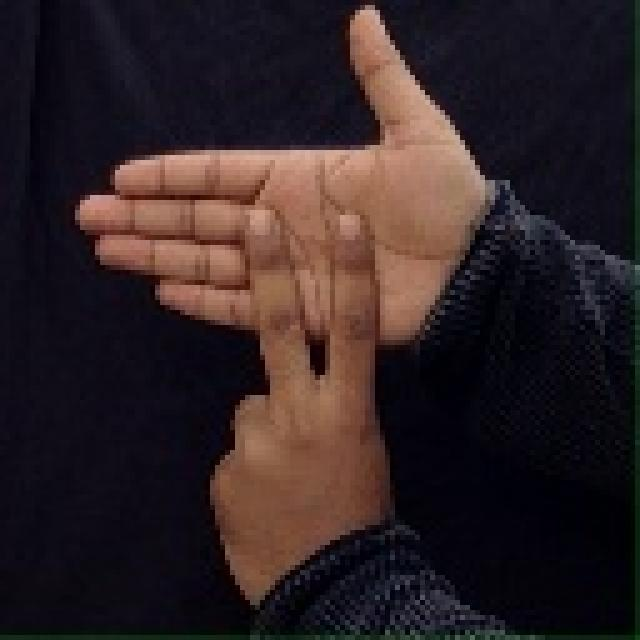N: (66, 2, 490, 586)
